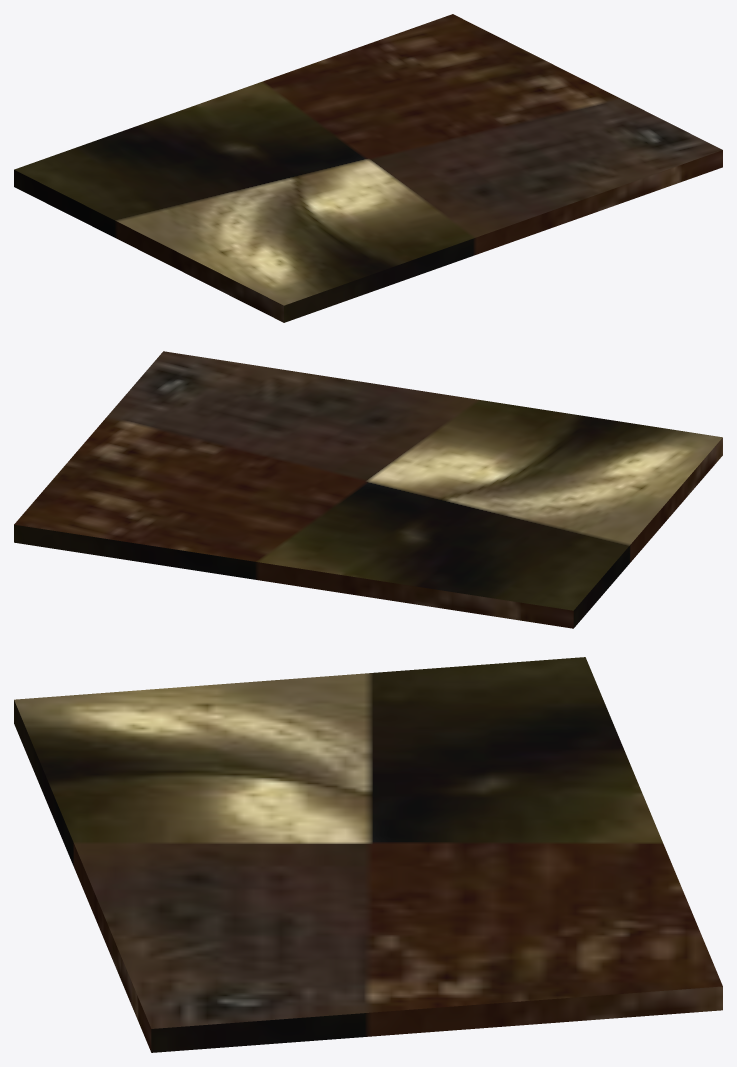
Rendered from map_piece.gltf.
The picture shows the model from 3 angles, top to bottom: view 1: azimuth 30°, elevation 25°; view 2: azimuth 150°, elevation 25°; view 3: azimuth 270°, elevation 25°; orthographic projection. The views are drawn at different scales.
Visible parts, largest first — view 1: map_piece_mesh; view 2: map_piece_mesh; view 3: map_piece_mesh.
Boxes of the visible parts, bbox=[...] form: map_piece_mesh: bbox=[14, 14, 722, 322]; map_piece_mesh: bbox=[14, 351, 722, 628]; map_piece_mesh: bbox=[14, 657, 722, 1052].
Bounding box in the file's own units: 0.3336 × 0.01 × 0.2688.
Materials: 1 (1 with a texture image).
